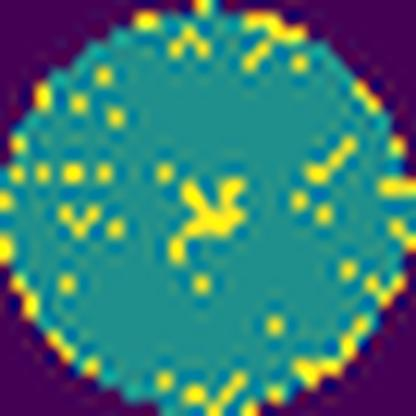Center: (162, 165, 252, 266)
